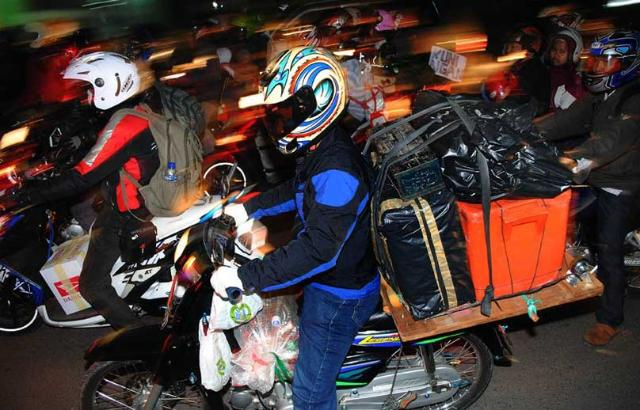helm: (257, 44, 351, 154), (63, 46, 144, 113), (578, 28, 640, 101)
motor: (81, 168, 491, 410), (2, 152, 247, 336)
